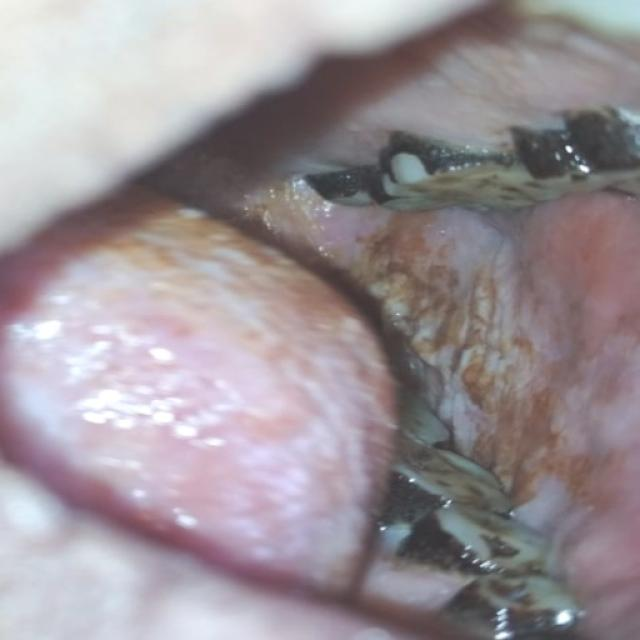leukoplakia-detection: (224, 152, 630, 548)
processing_area: (20, 3, 639, 639)
